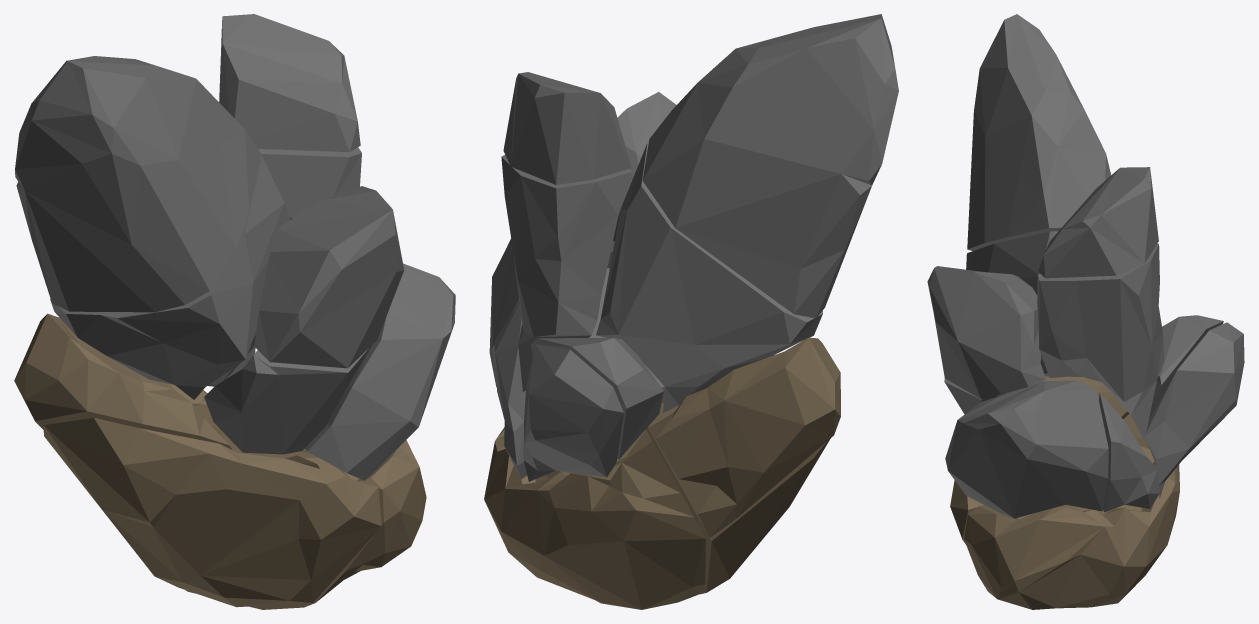
The model's file is SM_LP_Stone6_Pieces.fbx.
The picture shows the model from 3 angles, left to right: view 1: azimuth 30°, elevation 25°; view 2: azimuth 150°, elevation 25°; view 3: azimuth 270°, elevation 25°; orthographic projection. The views are drawn at different scales.
Parts seen in each view (by area): view 1: SM_LP_Stone6_Pieces_1, SM_LP_Stone6_Pieces_4, SM_LP_Stone6_Pieces_8, SM_LP_Stone6_Pieces_3, SM_LP_Stone6_Pieces_11, SM_LP_Stone6_Pieces_14, SM_LP_Stone6_Pieces_2, SM_LP_Stone6_Pieces_6, SM_LP_Stone6_Pieces_9, SM_LP_Stone6_Pieces_10; view 2: SM_LP_Stone6_Pieces_1, SM_LP_Stone6_Pieces_9, SM_LP_Stone6_Pieces_3, SM_LP_Stone6_Pieces_2, SM_LP_Stone6_Pieces_10, SM_LP_Stone6_Pieces_7, SM_LP_Stone6_Pieces_11, SM_LP_Stone6_Pieces_4, SM_LP_Stone6_Pieces_5, SM_LP_Stone6_Pieces_13, SM_LP_Stone6_Pieces_8, SM_LP_Stone6_Pieces_14; view 3: SM_LP_Stone6_Pieces_1, SM_LP_Stone6_Pieces_9, SM_LP_Stone6_Pieces_14, SM_LP_Stone6_Pieces_10, SM_LP_Stone6_Pieces_8, SM_LP_Stone6_Pieces_11, SM_LP_Stone6_Pieces_7, SM_LP_Stone6_Pieces_13, SM_LP_Stone6_Pieces_3, SM_LP_Stone6_Pieces_5, SM_LP_Stone6_Pieces_4, SM_LP_Stone6_Pieces_2 (+1 smaller).
Boxes of the visible parts, left/top/right/bottom form: SM_LP_Stone6_Pieces_1: left=15, top=56, right=260, bottom=312; SM_LP_Stone6_Pieces_4: left=43, top=417, right=381, bottom=607; SM_LP_Stone6_Pieces_8: left=254, top=186, right=404, bottom=368; SM_LP_Stone6_Pieces_3: left=50, top=156, right=290, bottom=399; SM_LP_Stone6_Pieces_11: left=219, top=14, right=360, bottom=152; SM_LP_Stone6_Pieces_14: left=305, top=263, right=455, bottom=480; SM_LP_Stone6_Pieces_2: left=14, top=313, right=348, bottom=477; SM_LP_Stone6_Pieces_6: left=204, top=345, right=371, bottom=454; SM_LP_Stone6_Pieces_9: left=169, top=384, right=426, bottom=609; SM_LP_Stone6_Pieces_10: left=258, top=147, right=361, bottom=219; SM_LP_Stone6_Pieces_1: left=642, top=14, right=898, bottom=318; SM_LP_Stone6_Pieces_9: left=484, top=427, right=705, bottom=609; SM_LP_Stone6_Pieces_3: left=596, top=142, right=822, bottom=412; SM_LP_Stone6_Pieces_2: left=648, top=337, right=840, bottom=537; SM_LP_Stone6_Pieces_10: left=501, top=155, right=632, bottom=392; SM_LP_Stone6_Pieces_7: left=523, top=344, right=623, bottom=481; SM_LP_Stone6_Pieces_11: left=503, top=72, right=631, bottom=184; SM_LP_Stone6_Pieces_4: left=646, top=386, right=830, bottom=594; SM_LP_Stone6_Pieces_5: left=530, top=338, right=663, bottom=459; SM_LP_Stone6_Pieces_13: left=494, top=301, right=527, bottom=479; SM_LP_Stone6_Pieces_8: left=607, top=92, right=676, bottom=268; SM_LP_Stone6_Pieces_14: left=489, top=238, right=664, bottom=389; SM_LP_Stone6_Pieces_1: left=967, top=14, right=1111, bottom=250; SM_LP_Stone6_Pieces_9: left=964, top=414, right=1179, bottom=609; SM_LP_Stone6_Pieces_14: left=945, top=380, right=1108, bottom=518; SM_LP_Stone6_Pieces_10: left=1037, top=243, right=1164, bottom=440; SM_LP_Stone6_Pieces_8: left=927, top=266, right=1045, bottom=399; SM_LP_Stone6_Pieces_11: left=1038, top=167, right=1158, bottom=278; SM_LP_Stone6_Pieces_7: left=1145, top=322, right=1244, bottom=498; SM_LP_Stone6_Pieces_13: left=1099, top=392, right=1159, bottom=512; SM_LP_Stone6_Pieces_3: left=966, top=231, right=1081, bottom=376; SM_LP_Stone6_Pieces_5: left=1148, top=315, right=1223, bottom=420; SM_LP_Stone6_Pieces_4: left=950, top=480, right=984, bottom=544; SM_LP_Stone6_Pieces_2: left=1036, top=376, right=1129, bottom=419.
Bounding box in the file's own units: 1.26 × 1.81 × 1.04.
